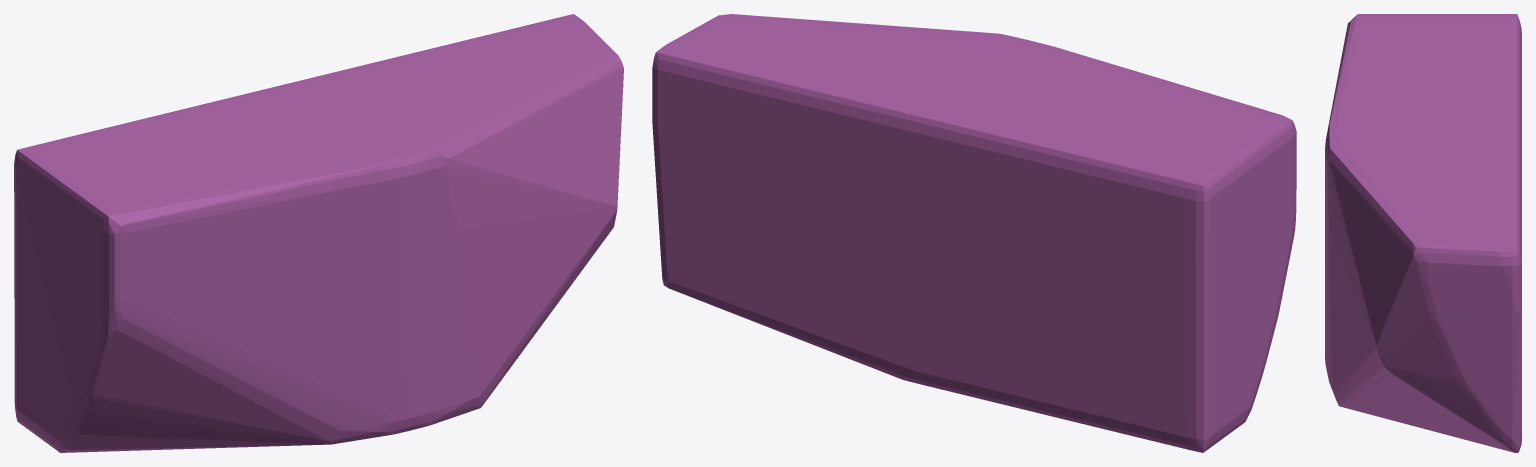
The model's file is left_shoulder_pitch_link_part_7.obj.
3 renders of one model, left to right at view 1: azimuth 30°, elevation 25°; view 2: azimuth 150°, elevation 25°; view 3: azimuth 270°, elevation 25°, orthographic. The views are drawn at different scales.
Size of the model in its own units: 0.0592 by 0.0273 by 0.0204.
